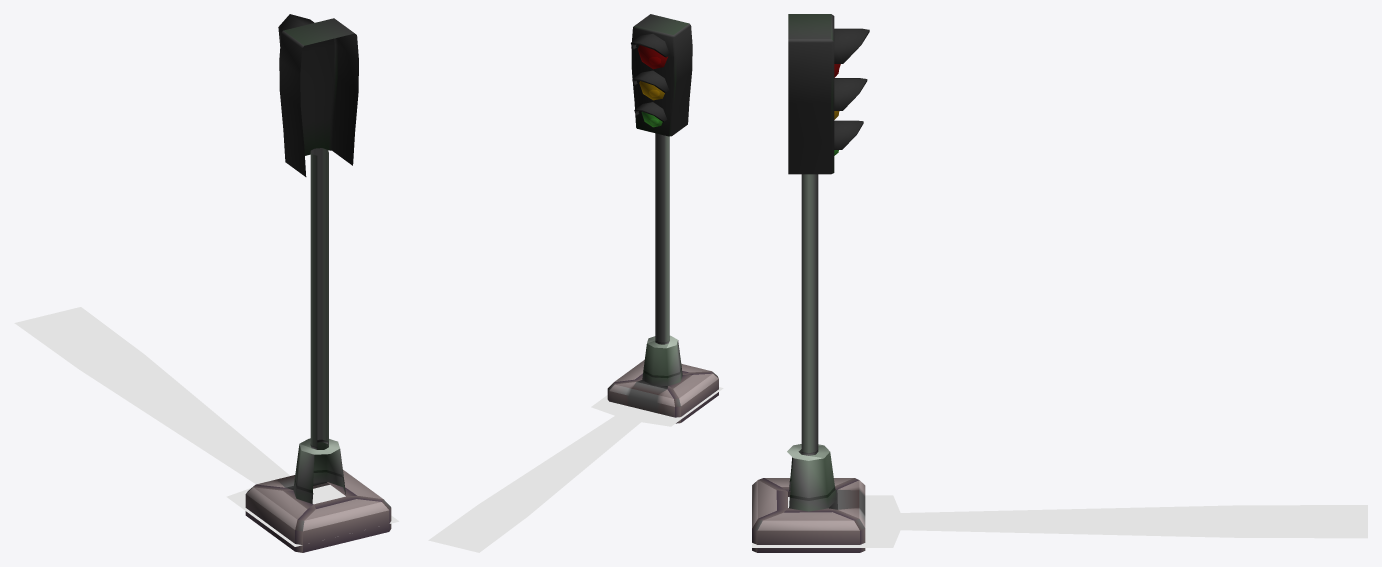
File: City_SideBump_TrafficLight 1.fbx
3 views of the same model, side by side, from view 1: azimuth 30°, elevation 25°; view 2: azimuth 150°, elevation 25°; view 3: azimuth 270°, elevation 25° (orthographic). The views are drawn at different scales.
Visible parts, largest first — view 1: city_sideBump_trafficLight, trafficLightShadow; view 2: city_sideBump_trafficLight, trafficLightShadow; view 3: city_sideBump_trafficLight, trafficLightShadow.
Boxes of the visible parts, x1,y1,x2,y2 form: city_sideBump_trafficLight: [245, 14, 391, 552]; trafficLightShadow: [14, 307, 399, 546]; city_sideBump_trafficLight: [607, 14, 718, 423]; trafficLightShadow: [428, 387, 723, 552]; city_sideBump_trafficLight: [752, 14, 869, 552]; trafficLightShadow: [752, 495, 1367, 547].
Bounding box in the file's own units: 70.46 × 315 × 349.
